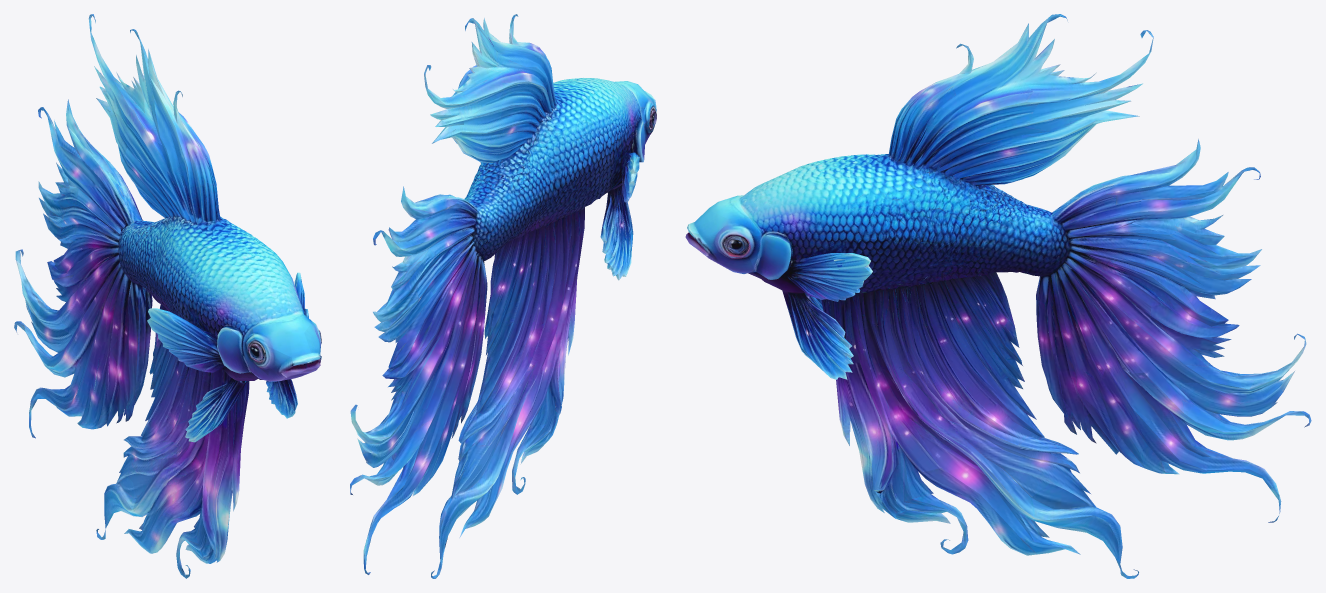
File: betta_galaxy.glb
3 views of the same model, side by side, from view 1: azimuth 30°, elevation 25°; view 2: azimuth 150°, elevation 25°; view 3: azimuth 270°, elevation 25° (orthographic). The views are drawn at different scales.
Visible parts, largest first — view 1: output_unwrapped; view 2: output_unwrapped; view 3: output_unwrapped.
Boxes of the visible parts, x1,y1,x2,y2 form: output_unwrapped: (14, 14, 321, 578); output_unwrapped: (350, 14, 656, 578); output_unwrapped: (685, 14, 1311, 578).
Size of the model in its own units: 0.297 by 0.9952 by 1.
1 material, 1 textured.
